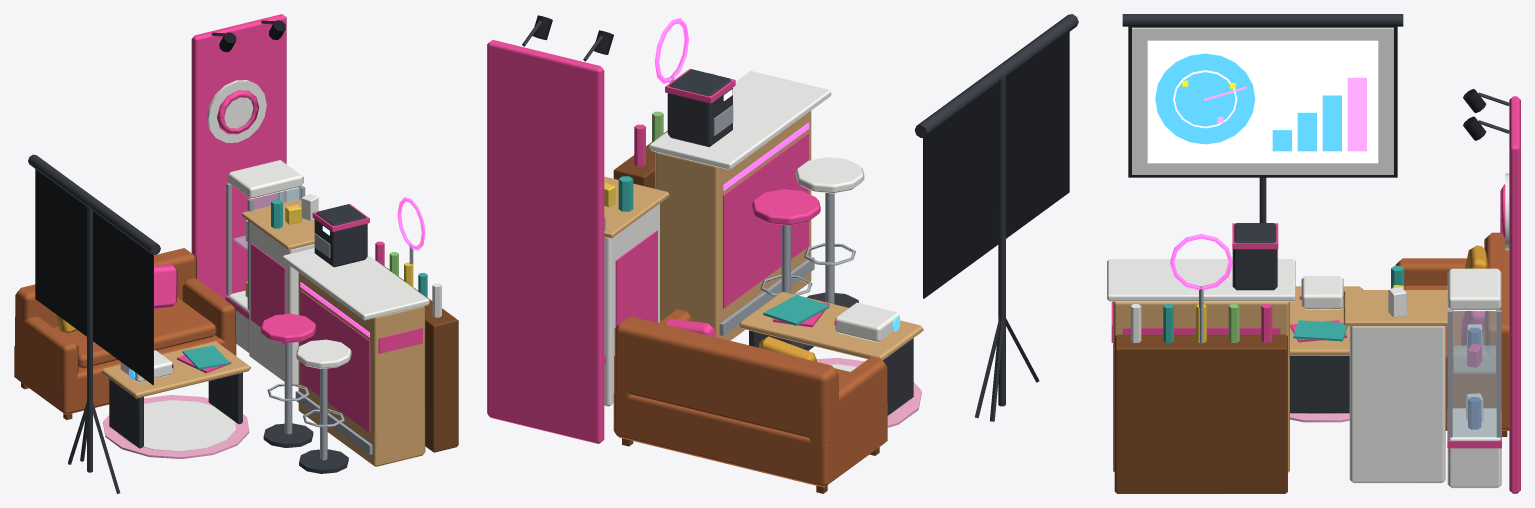
Rendered from station_special_3.glb.
3 renders of one model, left to right at view 1: azimuth 30°, elevation 25°; view 2: azimuth 150°, elevation 25°; view 3: azimuth 270°, elevation 25°, orthographic. The views are drawn at different scales.
Visible parts, largest first — view 1: station_special_3; view 2: station_special_3; view 3: station_special_3.
Boxes of the visible parts, bbox=[...] form: station_special_3: bbox=[14, 14, 458, 493]; station_special_3: bbox=[487, 14, 1078, 493]; station_special_3: bbox=[1107, 14, 1520, 493].
Bounding box in the file's own units: 2.15 × 2.08 × 2.15.
